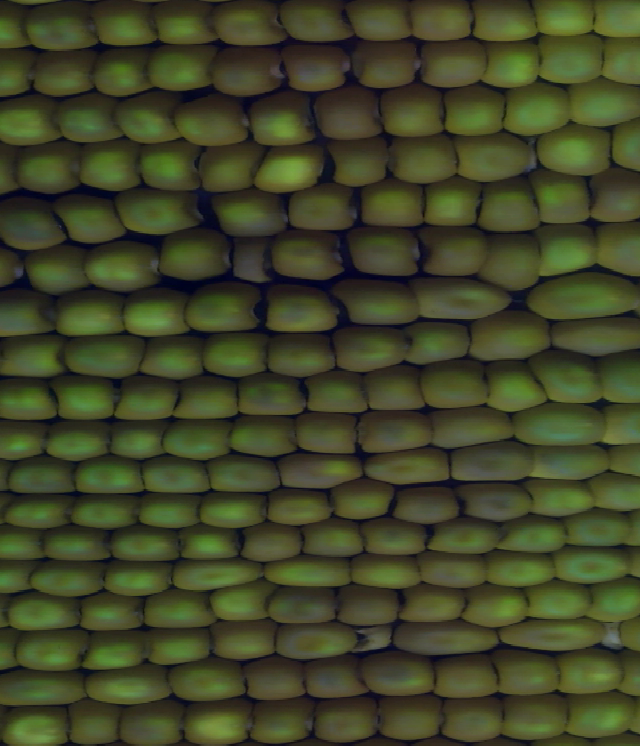fluorescent: (528, 272, 640, 318), (557, 688, 640, 746), (494, 79, 570, 137), (413, 278, 510, 323), (498, 692, 578, 746), (376, 82, 447, 142), (178, 282, 265, 329), (304, 88, 384, 139), (460, 130, 540, 181), (130, 142, 204, 197), (472, 356, 546, 411), (468, 176, 537, 234), (334, 278, 417, 326), (286, 37, 355, 94), (328, 136, 399, 191), (337, 578, 413, 629), (111, 697, 191, 745), (85, 243, 163, 291), (401, 313, 473, 365), (473, 311, 550, 359), (259, 288, 339, 334), (0, 192, 63, 250), (257, 145, 326, 197), (495, 621, 607, 653), (21, 2, 97, 49), (165, 98, 243, 143), (276, 229, 346, 279), (553, 316, 640, 356), (252, 559, 357, 592), (514, 410, 602, 449), (540, 131, 613, 178), (47, 94, 117, 143), (289, 414, 360, 462), (369, 698, 440, 746), (207, 52, 286, 95), (389, 621, 495, 653), (531, 168, 588, 227), (165, 227, 226, 282), (434, 701, 510, 745), (243, 100, 311, 149), (566, 81, 640, 126), (418, 363, 491, 408), (447, 443, 533, 481), (210, 1, 278, 49), (0, 334, 65, 384), (49, 294, 124, 337), (33, 46, 95, 98), (263, 329, 331, 376), (214, 617, 279, 666), (282, 455, 363, 494), (414, 40, 491, 81), (181, 701, 255, 743), (91, 5, 157, 52), (215, 197, 294, 236), (389, 484, 462, 526), (279, 617, 352, 659), (352, 230, 420, 275), (420, 229, 486, 275), (285, 189, 357, 231), (528, 226, 595, 271), (308, 701, 375, 746), (150, 42, 210, 92), (462, 482, 530, 526), (169, 559, 252, 595), (331, 329, 402, 371), (81, 631, 147, 676), (399, 134, 462, 181), (472, 1, 544, 42), (13, 149, 81, 192), (343, 1, 412, 43), (355, 39, 418, 85), (307, 372, 376, 414), (359, 418, 428, 460), (356, 187, 423, 230), (17, 633, 81, 678), (272, 585, 337, 629), (205, 455, 282, 492), (52, 382, 121, 423), (276, 1, 343, 43), (68, 342, 143, 379), (555, 653, 621, 695), (121, 297, 185, 340), (489, 236, 534, 297), (118, 197, 198, 231), (142, 456, 208, 497), (442, 85, 494, 137), (36, 245, 88, 297), (81, 143, 134, 194), (426, 658, 499, 695), (236, 378, 311, 414), (560, 508, 631, 546), (202, 142, 257, 191), (30, 565, 107, 600), (0, 378, 56, 426), (363, 369, 427, 411), (202, 337, 265, 379), (543, 34, 601, 79), (110, 379, 172, 421), (43, 418, 111, 456), (552, 550, 628, 584), (147, 7, 213, 46), (226, 421, 292, 460), (589, 352, 640, 402), (588, 178, 640, 227), (369, 446, 446, 479), (594, 226, 640, 281), (542, 360, 598, 405), (336, 479, 392, 524), (68, 197, 118, 247), (94, 58, 152, 101), (7, 494, 78, 529), (199, 495, 270, 530), (533, 445, 602, 481), (89, 666, 169, 697), (143, 337, 202, 379), (211, 582, 270, 624), (8, 597, 82, 630), (165, 420, 226, 460), (457, 591, 533, 623), (362, 655, 424, 694), (70, 498, 143, 531), (252, 700, 308, 743), (268, 489, 333, 526), (428, 418, 513, 446), (517, 589, 591, 621), (499, 653, 555, 695), (147, 631, 214, 666), (482, 555, 553, 588), (0, 707, 60, 746), (170, 388, 240, 421), (78, 456, 142, 492), (411, 1, 467, 42), (0, 673, 85, 700), (170, 668, 249, 697), (108, 420, 166, 459), (0, 104, 55, 145), (0, 294, 49, 340), (528, 479, 594, 513), (534, 1, 596, 37), (491, 40, 544, 82), (63, 704, 116, 746), (402, 587, 459, 626), (110, 102, 170, 139), (299, 659, 362, 694), (10, 462, 78, 494), (234, 526, 302, 558), (101, 563, 169, 595), (105, 530, 176, 560), (601, 34, 640, 88), (427, 526, 499, 555), (131, 601, 211, 627), (594, 1, 640, 46), (421, 185, 475, 223), (360, 524, 426, 555), (353, 558, 417, 589), (134, 495, 202, 524), (176, 526, 234, 560), (591, 581, 640, 621), (249, 659, 299, 697), (607, 114, 640, 171), (417, 558, 486, 585), (227, 237, 268, 281), (592, 476, 640, 513), (82, 594, 131, 630), (307, 524, 360, 556), (46, 530, 105, 556), (499, 530, 560, 555), (602, 445, 640, 485), (0, 55, 33, 98), (0, 527, 46, 556), (602, 407, 640, 440), (0, 252, 30, 291), (0, 430, 39, 460), (0, 560, 31, 597)
